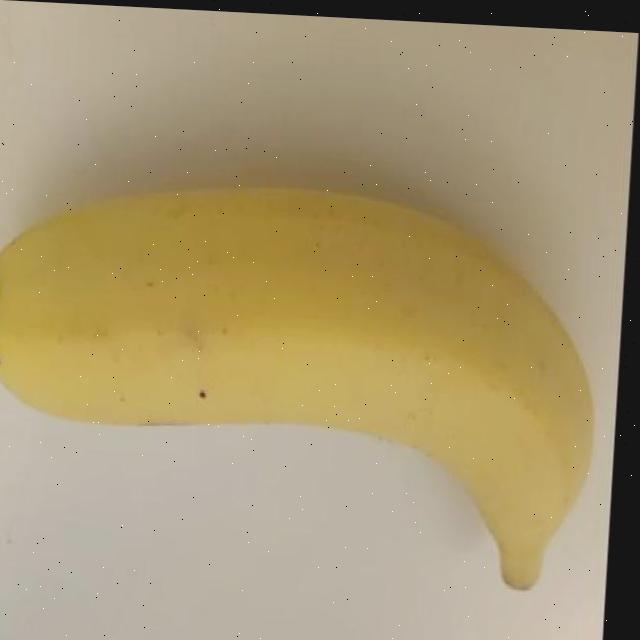banana: (0, 155, 614, 606)
